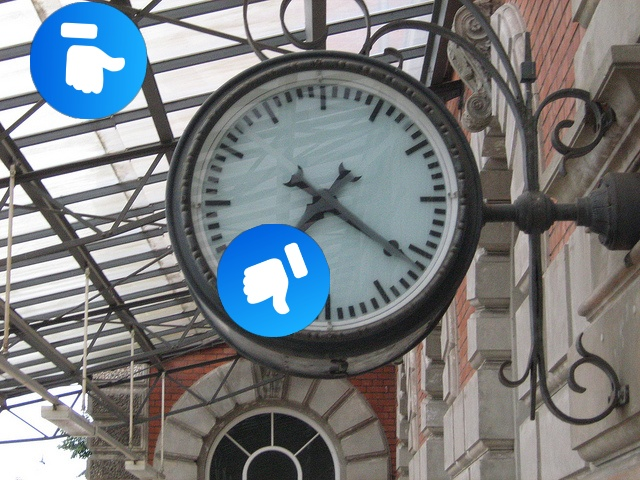like: (30, 2, 147, 119), (217, 224, 330, 337)
